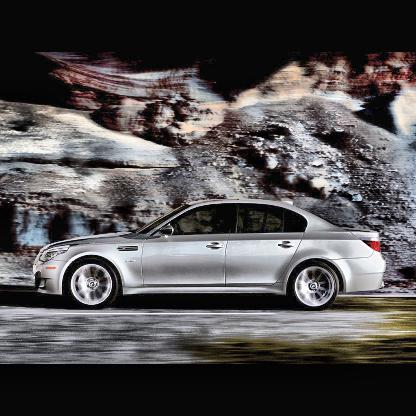BMW M5 Sedan 2010: (34, 201, 387, 311)
